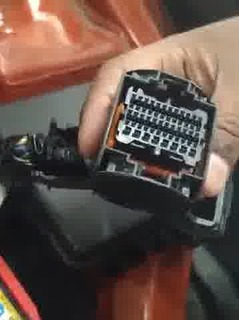connector: (92, 69, 217, 204)
